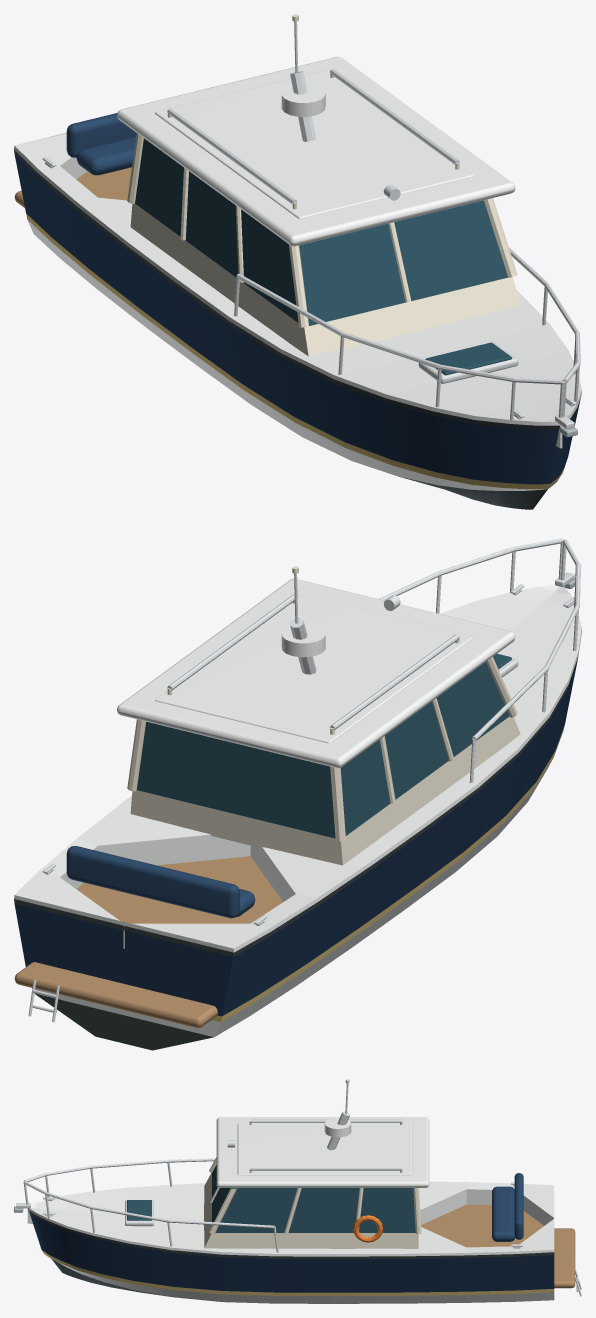
File: downeast_cruiser.glb
3 renders of one model, top to bottom at view 1: azimuth 30°, elevation 25°; view 2: azimuth 150°, elevation 25°; view 3: azimuth 270°, elevation 25°, orthographic. The views are drawn at different scales.
Parts seen in each view (by area): view 1: downeast_cruiser; view 2: downeast_cruiser; view 3: downeast_cruiser.
Boxes of the visible parts, x1,y1,x2,y2 form: downeast_cruiser: (14,14,581,509); downeast_cruiser: (14,538,581,1050); downeast_cruiser: (14,1079,581,1303).
Bounding box in the file's own units: 3.4 × 4.55 × 11.11.
